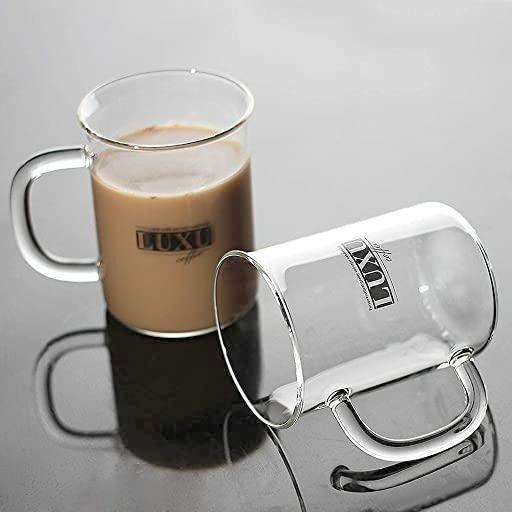glass-mug: (202, 198, 512, 459), (2, 64, 265, 347)
